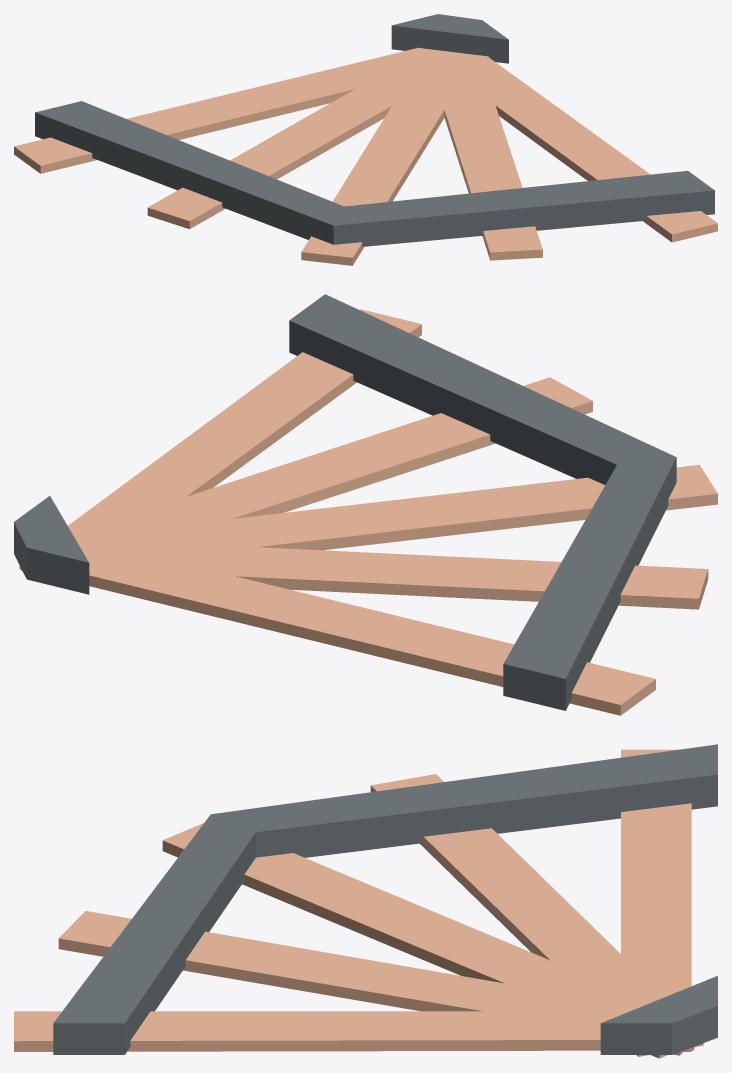
Rendered from rail_corner.fbx.
3 renders of one model, top to bottom at view 1: azimuth 30°, elevation 25°; view 2: azimuth 150°, elevation 25°; view 3: azimuth 270°, elevation 25°, orthographic. The views are drawn at different scales.
Visible parts, largest first — view 1: rail_corner; view 2: rail_corner; view 3: rail_corner.
Boxes of the visible parts, bbox=[...] form: rail_corner: bbox=[14, 14, 717, 265]; rail_corner: bbox=[14, 294, 717, 715]; rail_corner: bbox=[14, 744, 717, 1058].
Size of the model in its own units: 100 by 5.66 by 99.72.
